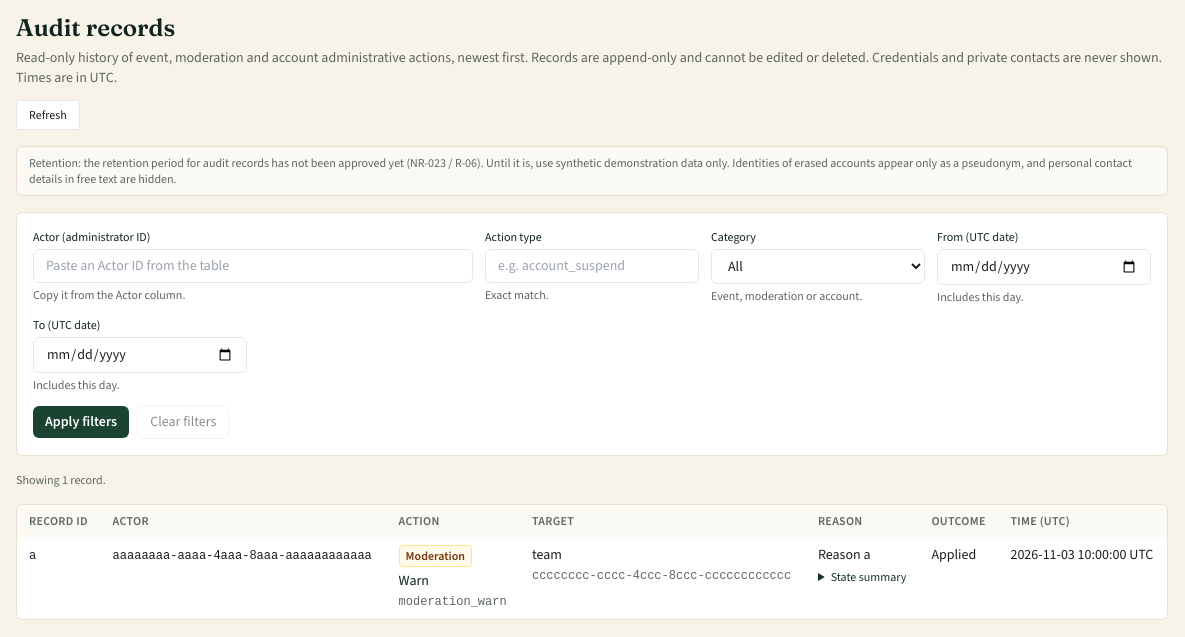
Test: AuditRecordsPage (US-028 / #259) › turns a mid-session loss of access into the denied state and drops the stale rows
Expected: the row with test id "audit-row-a" is shown, [17,537,1167,619]
Click the button with test id "audit-refresh": coordinates (48, 115) [16,100,80,130]
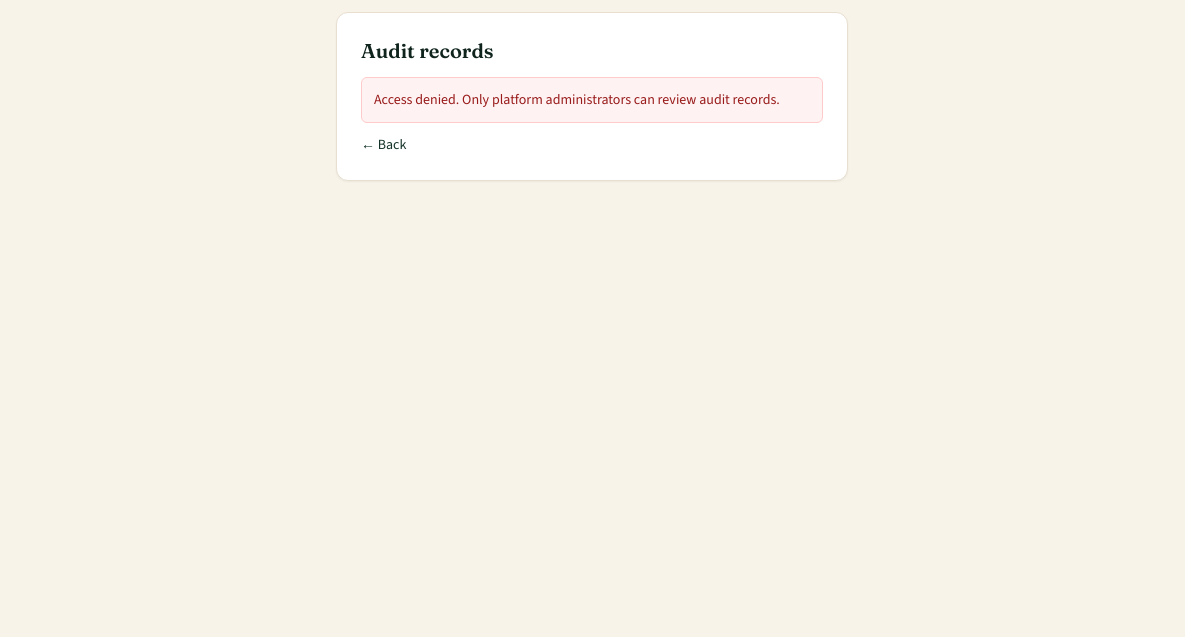
Result: the element with test id "audit-denied" is shown at [336,12,848,181]
Result: the row with test id "audit-row-a" is gone
